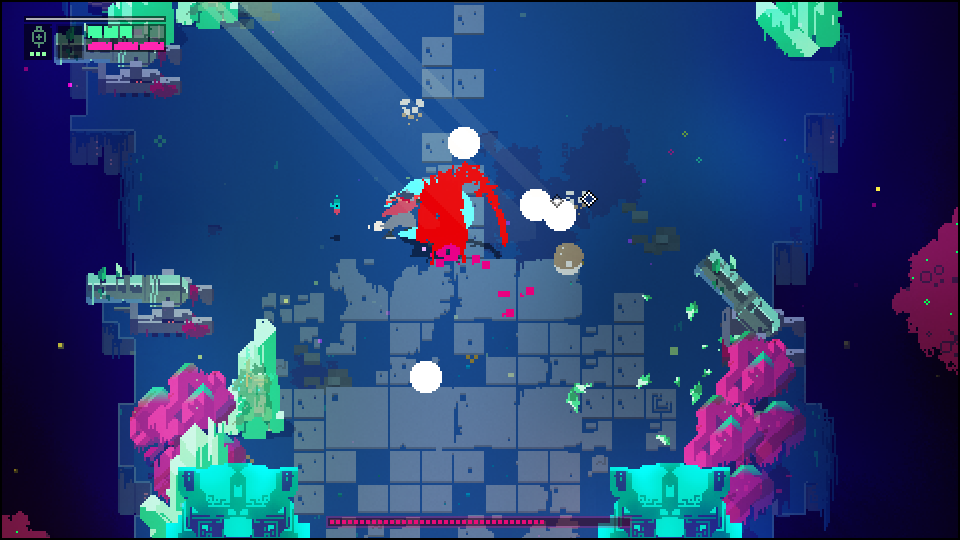hanged_man: (420, 163, 513, 262)
player: (380, 185, 421, 239)
